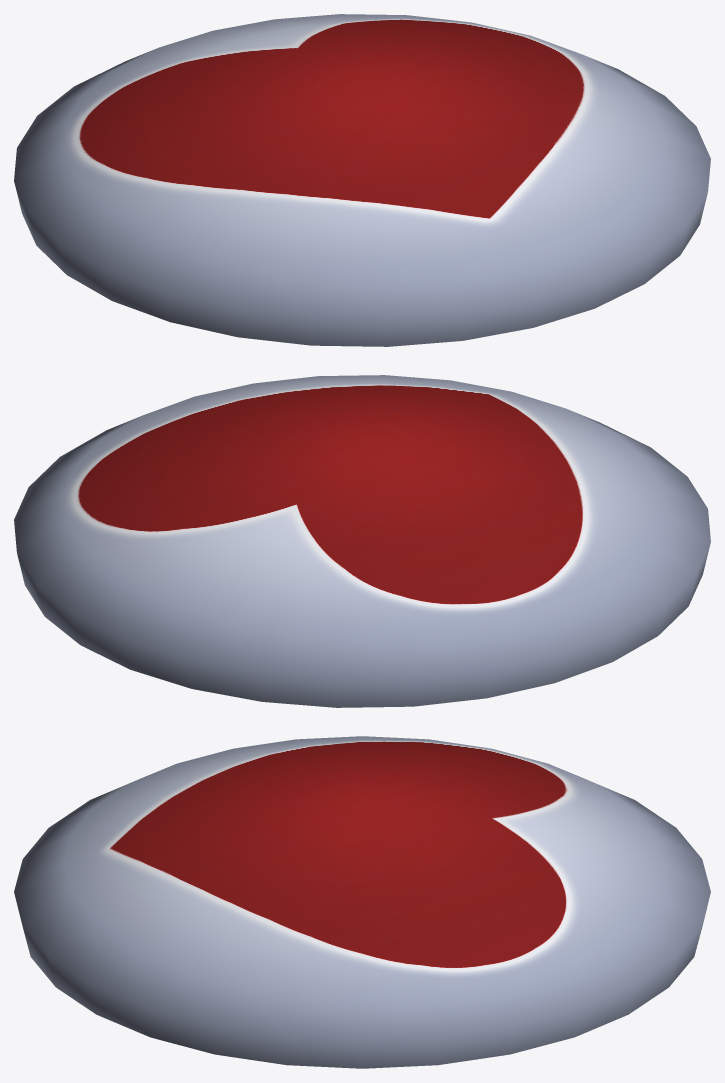
The model's file is Button.FBX.
3 renders of one model, top to bottom at view 1: azimuth 30°, elevation 25°; view 2: azimuth 150°, elevation 25°; view 3: azimuth 270°, elevation 25°, orthographic.
Visible parts, largest first — view 1: Button_Like; view 2: Button_Like; view 3: Button_Like.
Boxes of the visible parts, <box> form: Button_Like: <box>14,14,710,346</box>; Button_Like: <box>14,375,710,707</box>; Button_Like: <box>14,736,710,1068</box>.
Size of the model in its own units: 67.2 by 14.36 by 67.2.
Materials: 1 (1 with a texture image).
